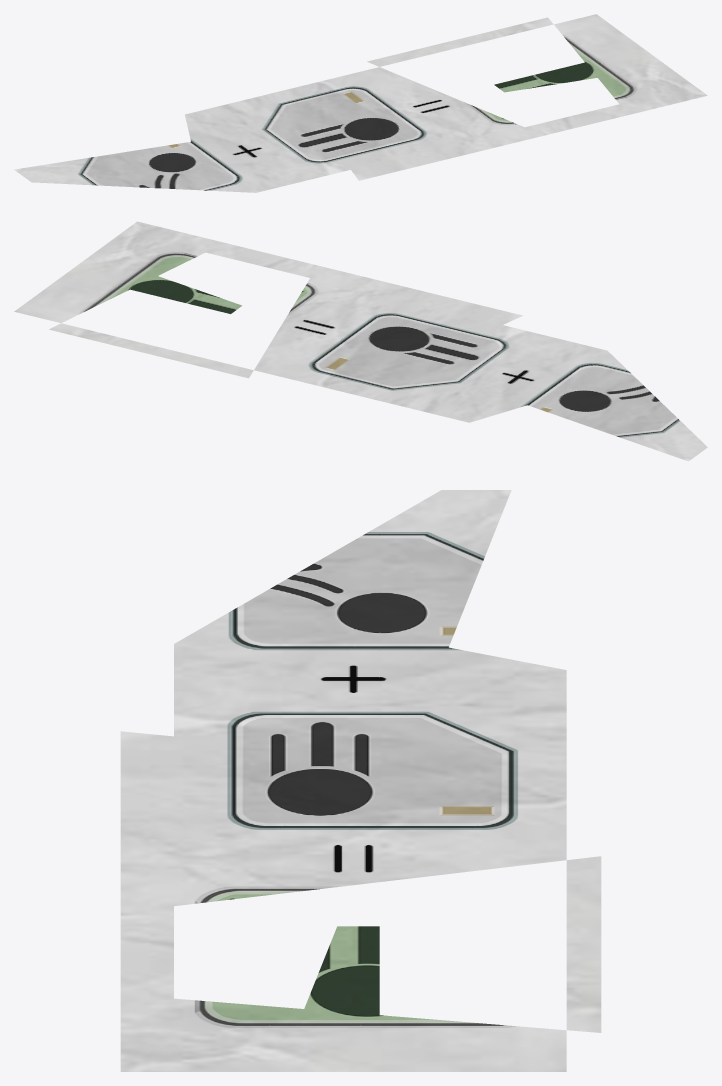
File: Blueprint4.fbx
3 renders of one model, top to bottom at view 1: azimuth 30°, elevation 25°; view 2: azimuth 150°, elevation 25°; view 3: azimuth 270°, elevation 25°, orthographic. The views are drawn at different scales.
Parts seen in each view (by area): view 1: 平面.003; view 2: 平面.003; view 3: 平面.003.
Part boxes in pixels (x1,y1,x2,y2): 平面.003: (14, 14, 707, 192); 平面.003: (14, 221, 707, 461); 平面.003: (120, 490, 601, 1071).
Size of the model in its own units: 200 by 0 by 69.86.
1 material, 1 textured.
